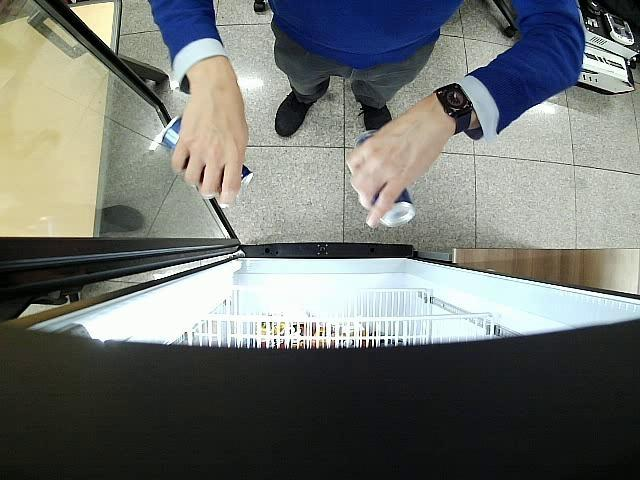16_hot6: (162, 114, 254, 188), (356, 132, 415, 228)
